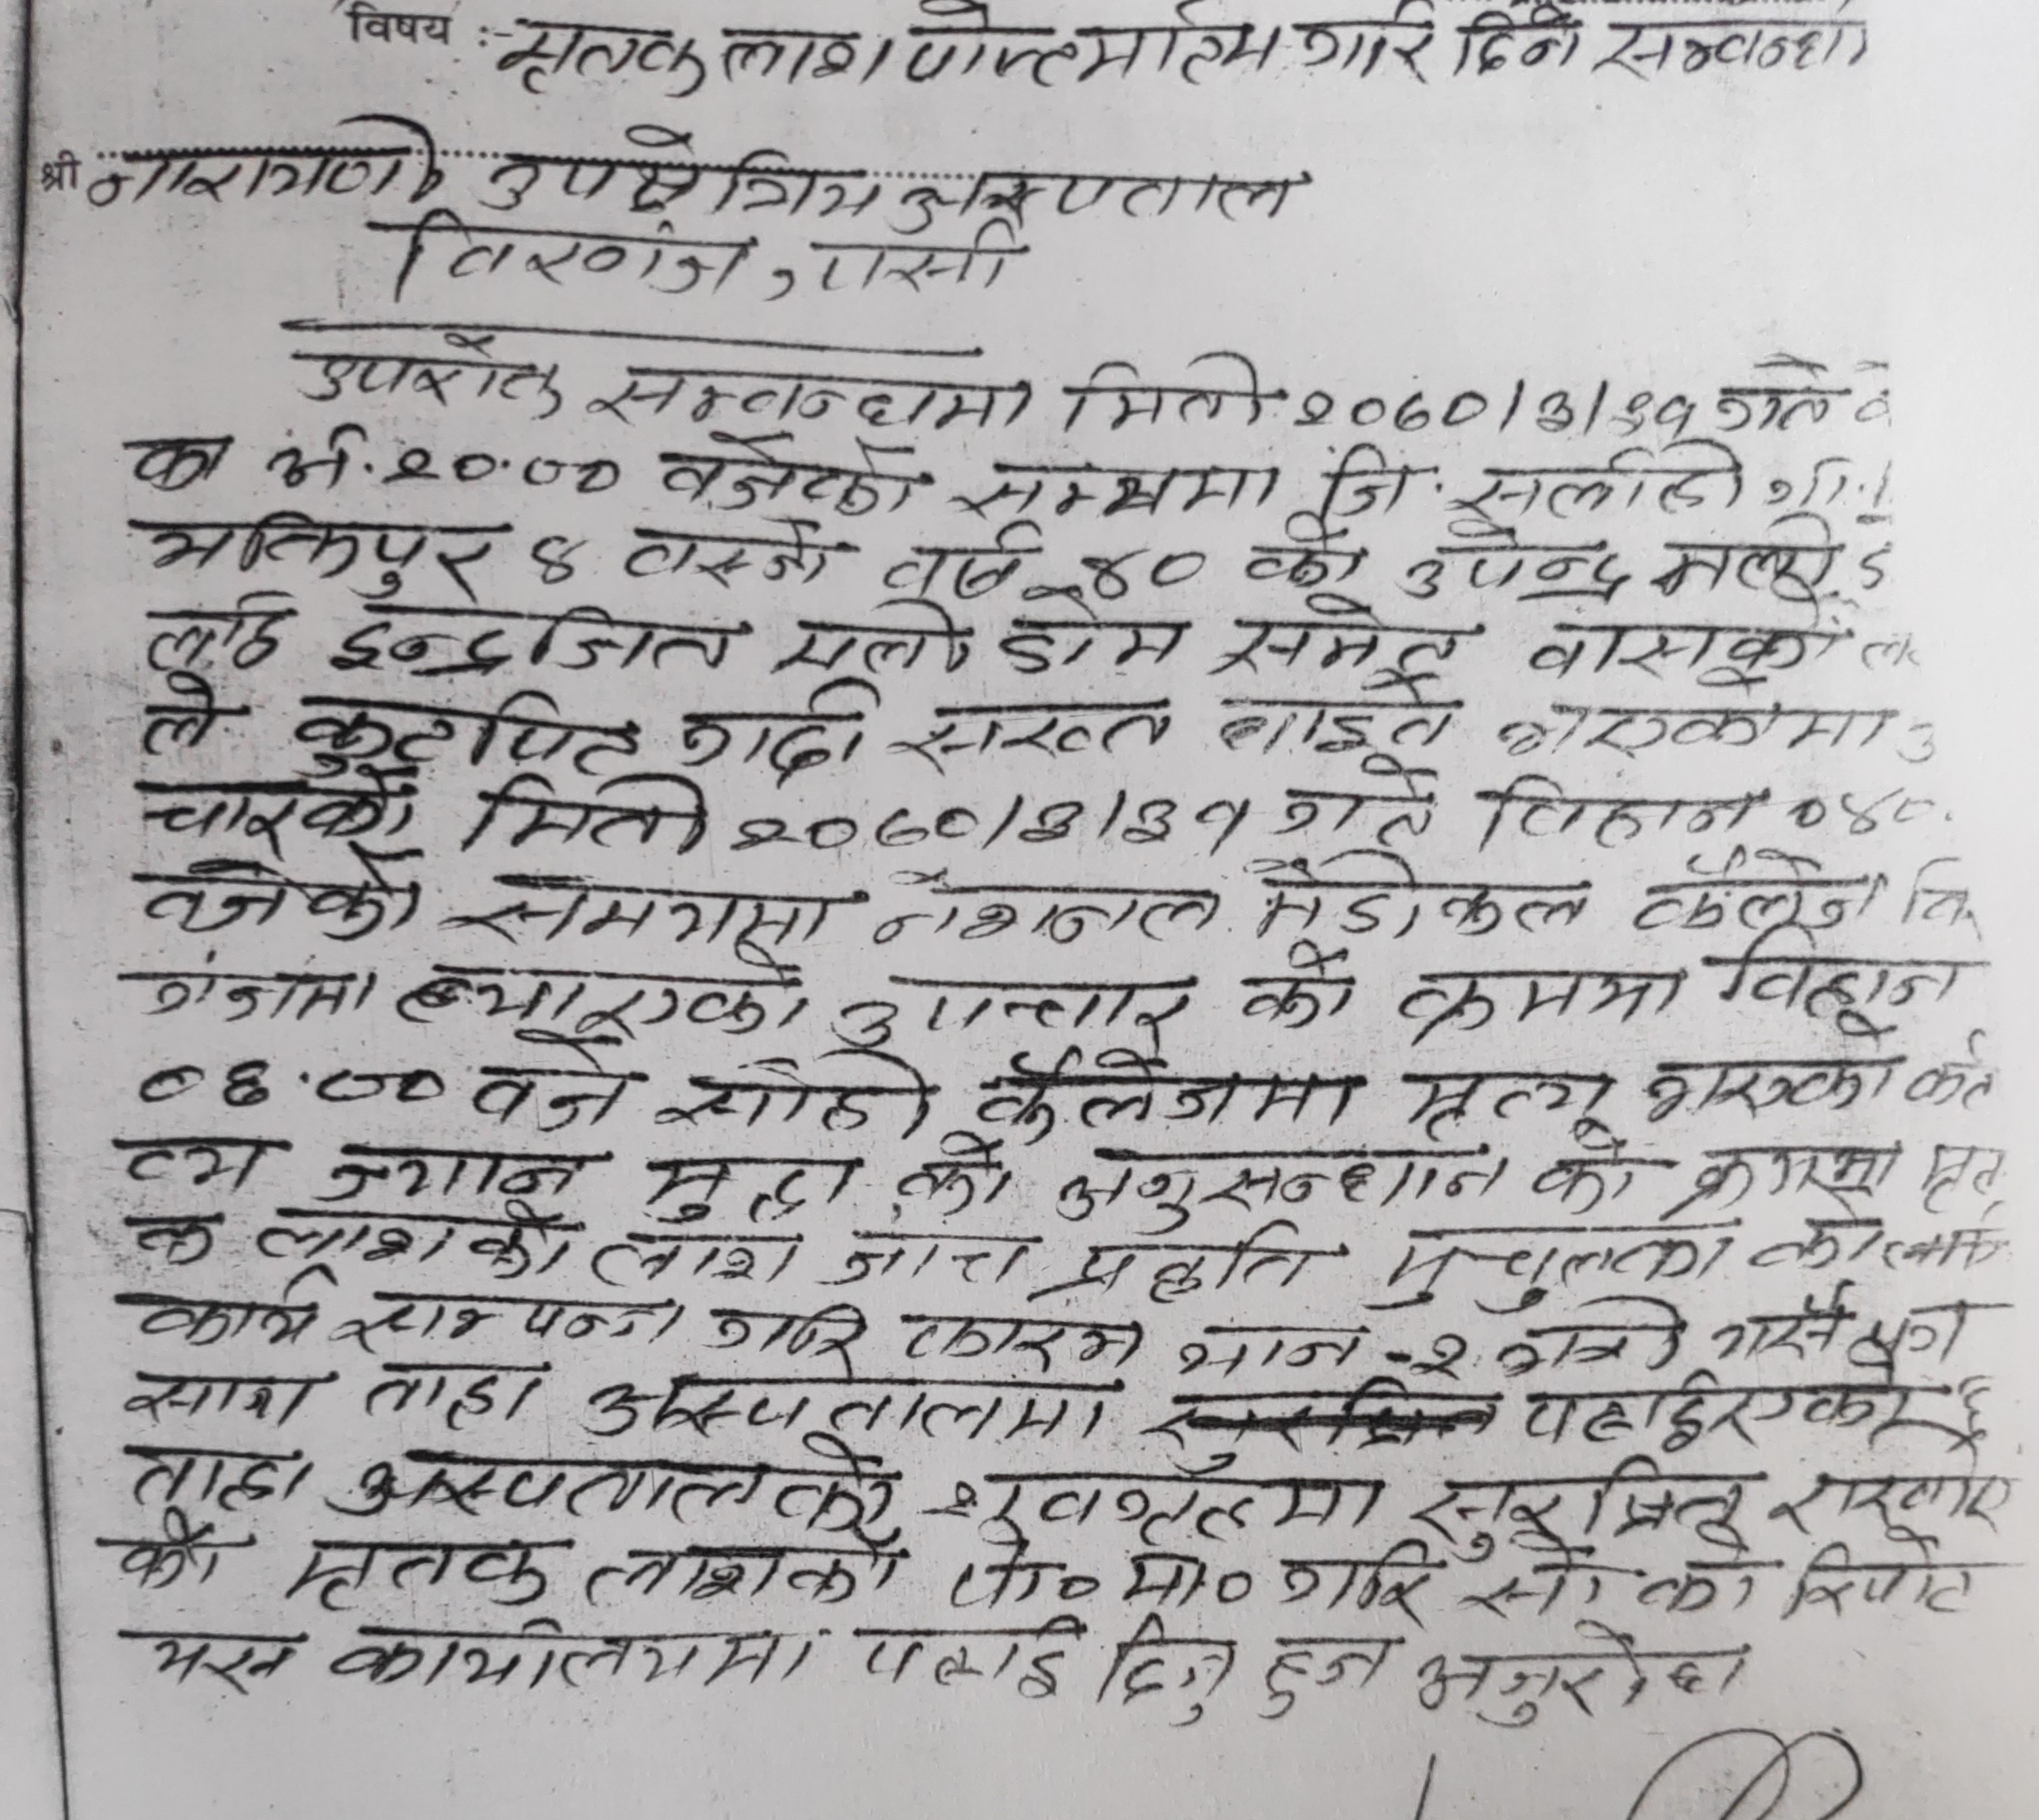text: (573, 1340, 1101, 1455), (341, 1439, 899, 1541), (318, 1620, 820, 1715), (1036, 1133, 1503, 1230), (383, 200, 760, 311), (1405, 1623, 1749, 1744), (975, 1035, 1370, 1140), (910, 1449, 1389, 1534), (321, 590, 762, 682), (861, 854, 1231, 959), (386, 949, 822, 1038), (1235, 841, 1603, 945), (904, 2, 1279, 100), (590, 357, 1034, 439), (1484, 671, 1891, 761), (443, 866, 841, 956), (142, 504, 497, 604), (77, 112, 443, 207), (641, 1029, 936, 1145), (292, 680, 638, 776), (1363, 1224, 1744, 1311), (571, 1520, 910, 1614), (253, 420, 625, 506), (940, 1523, 1254, 1625), (896, 156, 1315, 232), (834, 961, 1194, 1049), (1625, 1008, 1899, 1121), (251, 1200, 580, 1293), (297, 321, 580, 427), (1440, 430, 1754, 522), (1405, 1453, 1754, 1534), (1286, 367, 1709, 432), (137, 849, 437, 940), (940, 446, 1284, 525), (323, 1275, 690, 1349), (652, 427, 926, 525), (1380, 959, 1688, 1045), (1201, 666, 1465, 764), (1400, 501, 1639, 606), (1524, 599, 1849, 676), (1054, 1228, 1345, 1314), (1514, 1384, 1918, 1446), (890, 690, 1184, 775), (1712, 924, 1967, 1019), (276, 1528, 560, 1613), (1635, 840, 1893, 929), (674, 669, 880, 780), (1774, 1520, 1988, 1625), (128, 943, 381, 1031), (1056, 346, 1275, 446), (845, 1618, 1084, 1709), (146, 1045, 460, 1114), (1758, 1449, 2023, 1530), (471, 121, 704, 213), (318, 1135, 585, 1214), (1200, 592, 1470, 669), (775, 220, 1026, 300), (462, 1035, 641, 1144), (1264, 1520, 1449, 1625), (490, 12, 706, 102), (620, 515, 836, 604), (1595, 5, 1879, 72), (630, 1151, 869, 1230), (766, 596, 980, 682), (1094, 1614, 1240, 1739), (116, 1354, 323, 1441), (581, 1219, 822, 1293), (1658, 511, 1844, 606), (1489, 1293, 1690, 1381), (899, 1300, 1145, 1370), (118, 1263, 330, 1344), (1394, 1061, 1614, 1138), (358, 1351, 555, 1435), (994, 596, 1196, 676), (822, 1221, 1029, 1298), (1161, 1316, 1379, 1388), (1240, 1629, 1394, 1729), (1679, 1135, 1899, 1205), (717, 135, 880, 227), (139, 585, 288, 682), (887, 504, 1031, 604), (1698, 1275, 1858, 1365), (86, 1509, 228, 1607), (132, 1613, 300, 1695), (1231, 943, 1375, 1038), (704, 1293, 876, 1370), (111, 1124, 277, 1203), (123, 1444, 313, 1513), (725, 16, 899, 90), (1625, 1530, 1758, 1625), (1533, 1124, 1654, 1228), (1294, 5, 1440, 91), (1704, 341, 1839, 430), (1747, 1195, 1891, 1275), (885, 1140, 1019, 1221), (1445, 1553, 1619, 1614), (1238, 515, 1368, 596), (1310, 439, 1428, 525), (1070, 534, 1210, 604), (111, 422, 235, 501), (1454, 7, 1589, 77), (133, 671, 235, 764), (123, 1203, 223, 1274), (520, 516, 590, 604)
